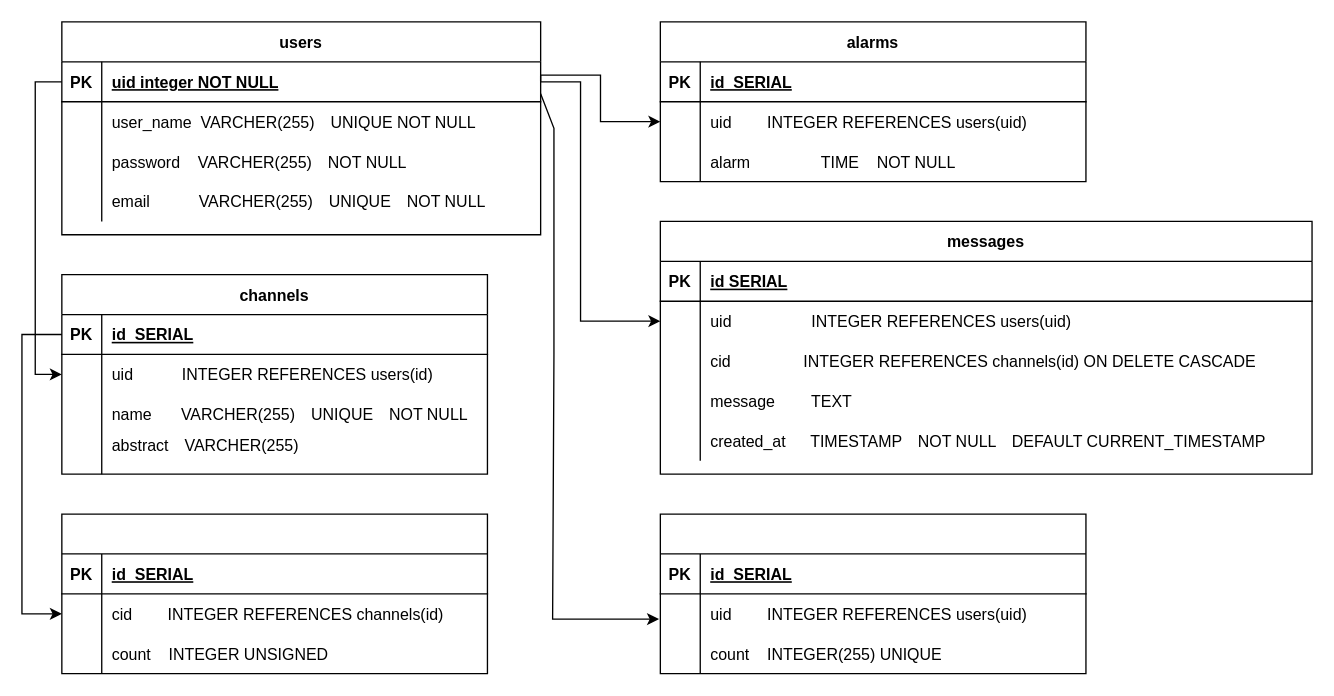
This 1334x696 diagram has some shape labels left out. Here are the shapes that lost their labels. From the top down, the box of each, then its label:
(61, 513, 487, 674): flowers
(659, 513, 1086, 674): flowerbeds
